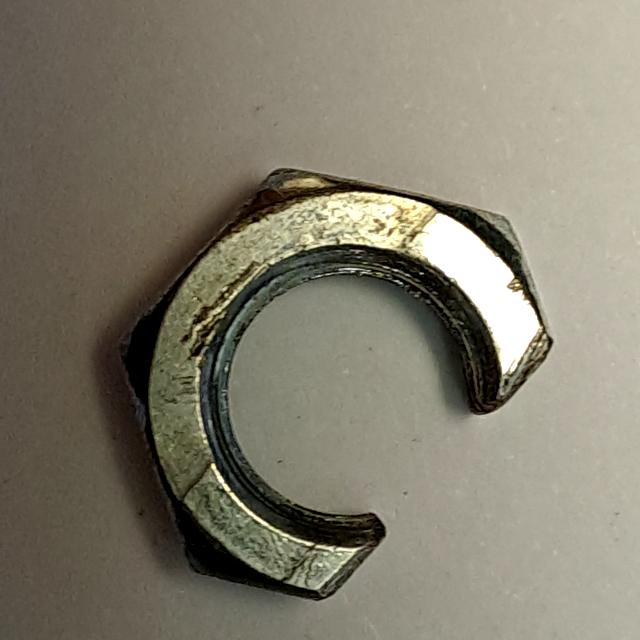Fracture: (94, 151, 569, 615)
